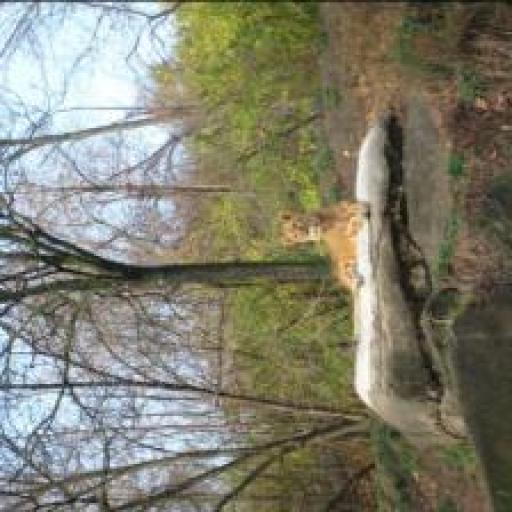lion: (270, 188, 372, 346)
